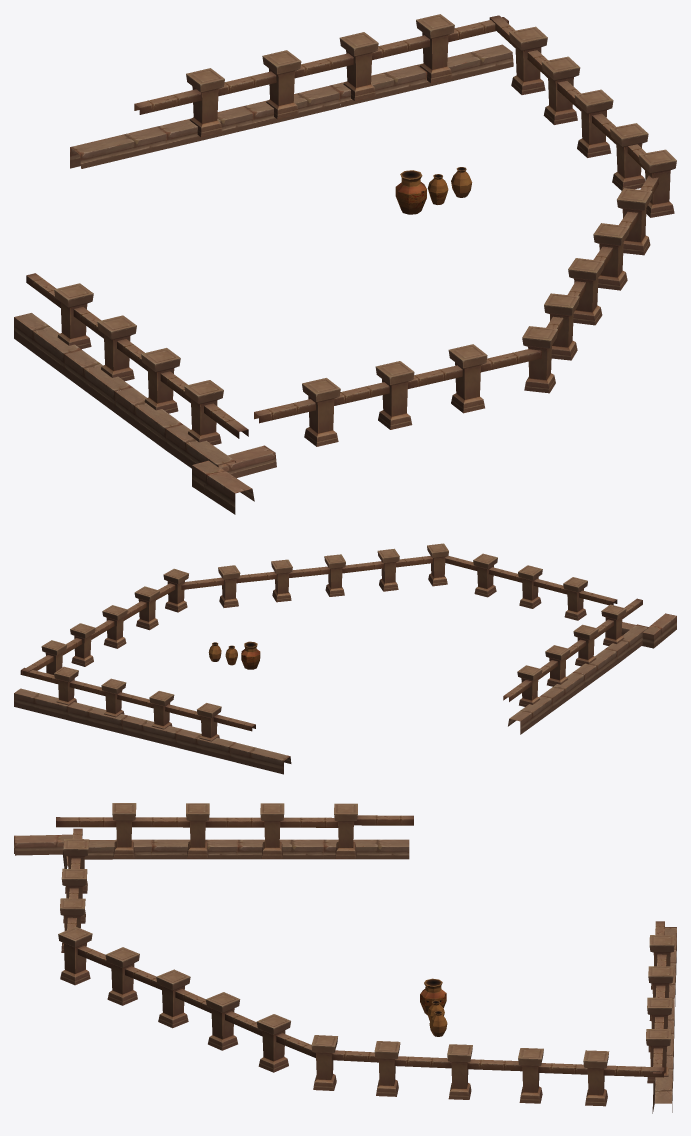
The model's file is Area_06_15.fbx.
3 views of the same model, one above another, from view 1: azimuth 30°, elevation 25°; view 2: azimuth 150°, elevation 25°; view 3: azimuth 270°, elevation 25° (orthographic). The views are drawn at different scales.
Parts seen in each view (by area): view 1: Area_06_15; view 2: Area_06_15; view 3: Area_06_15.
Part boxes in pixels (bbox=[...]): Area_06_15: bbox=[14, 14, 676, 514]; Area_06_15: bbox=[14, 543, 676, 774]; Area_06_15: bbox=[14, 803, 676, 1113].
Bounding box in the file's own units: 2002 × 216 × 2063.
